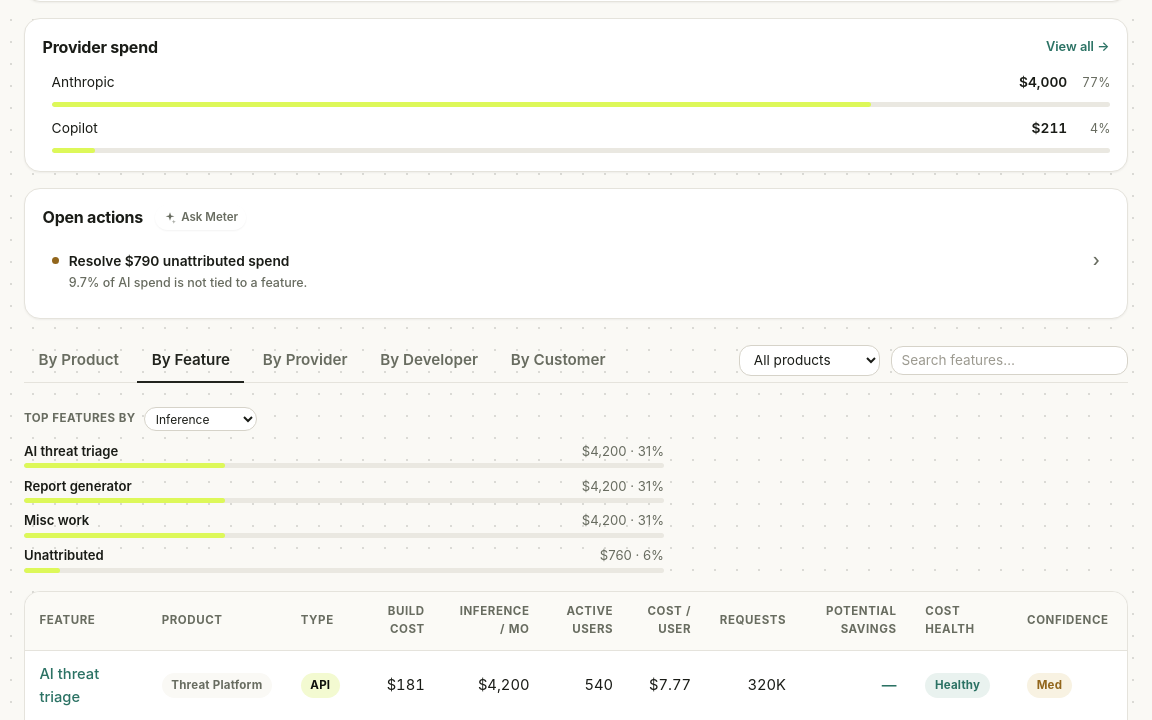
Dashboard (Overview) › narrows the table to one product, and drops Unattributed while it does
The image size is (1152, 720).
(page scrolled)
Select "Threat Platform" in the dropdown named "Filter by product" at (810, 360), box [739,345,880,376]
(page scrolled)
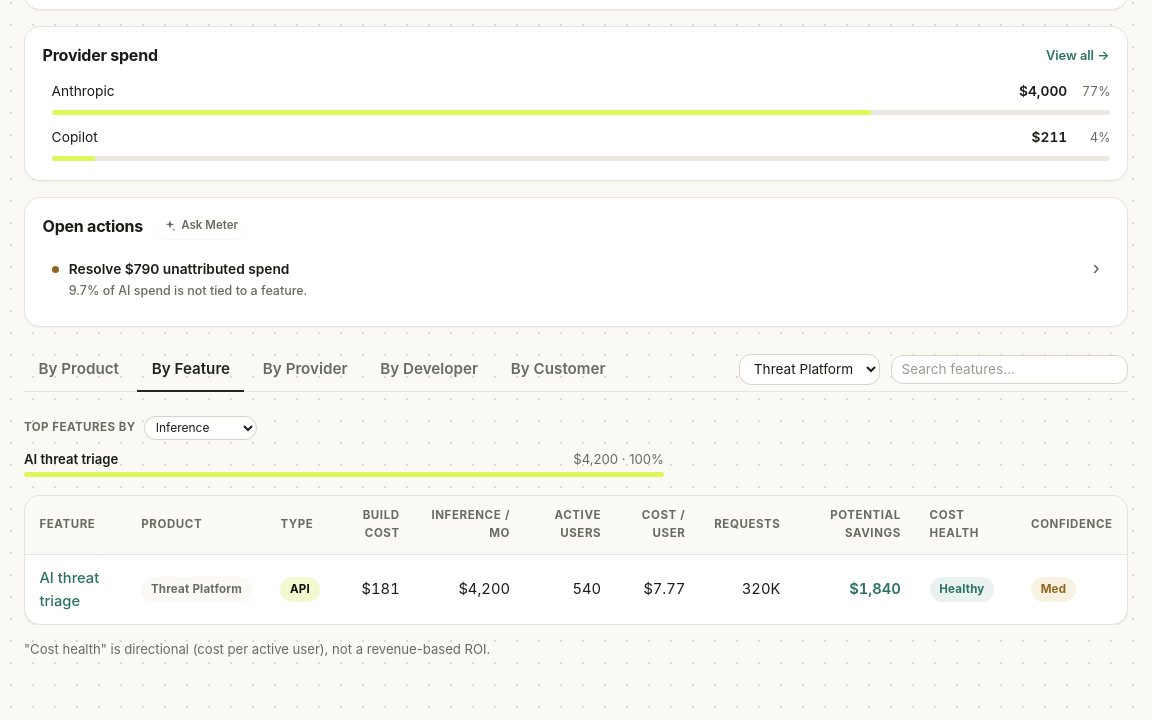
Expected: the link "AI threat triage" is shown, [39,569,99,610]
Expected: the button "Report generator" is gone
Expected: the button "Misc work" is gone
